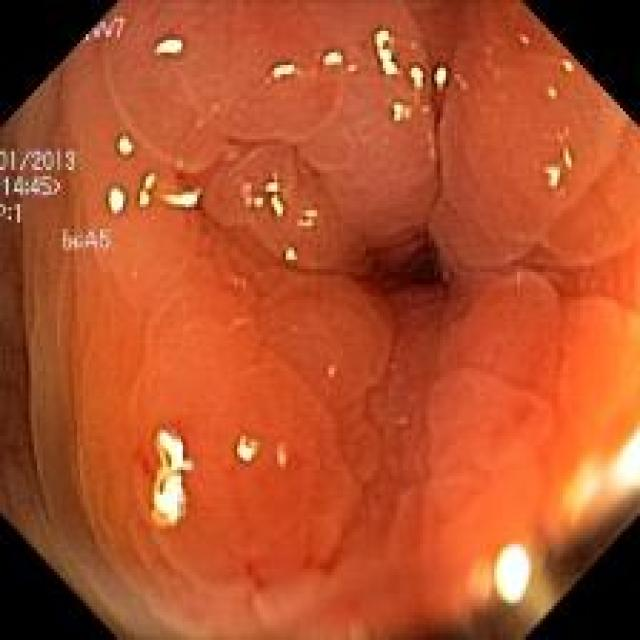Polyps: (130, 265, 359, 590), (431, 4, 628, 268), (104, 4, 345, 173)
